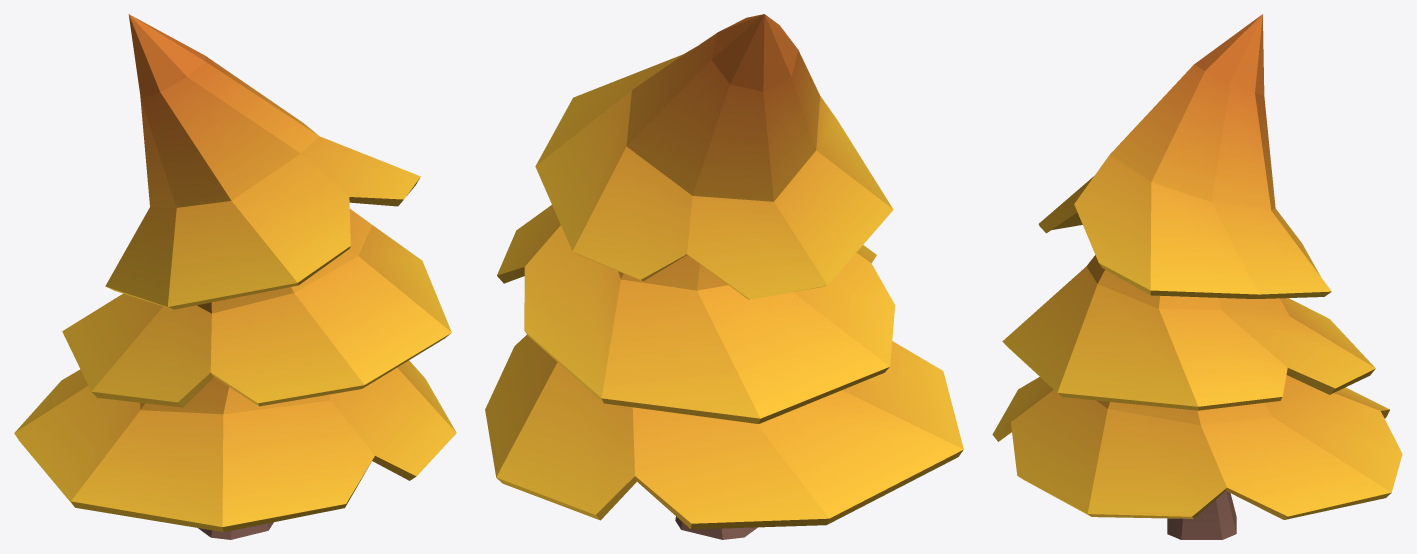
File: AutumnPine4.fbx
3 views of the same model, side by side, from view 1: azimuth 30°, elevation 25°; view 2: azimuth 150°, elevation 25°; view 3: azimuth 270°, elevation 25° (orthographic). The views are drawn at different scales.
Parts seen in each view (by area): view 1: AutumnPine4; view 2: AutumnPine4; view 3: AutumnPine4.
Part boxes in pixels (left/top/right/bottom): AutumnPine4: left=14, top=14, right=456, bottom=539; AutumnPine4: left=485, top=14, right=963, bottom=539; AutumnPine4: left=992, top=14, right=1402, bottom=539.
Size of the model in its own units: 436 by 551 by 428.
